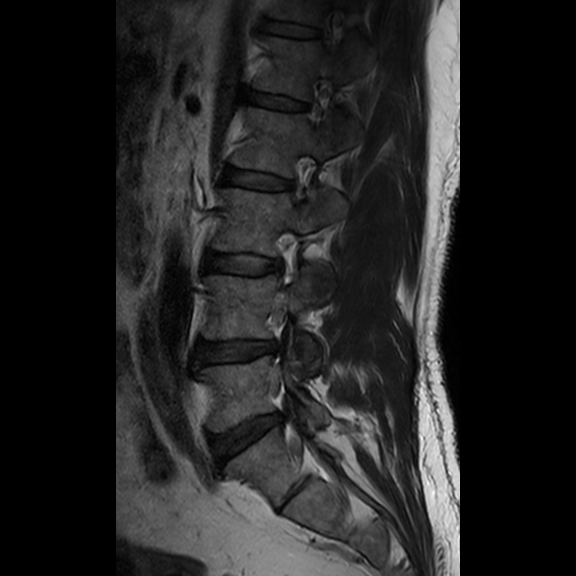RFS0: (262, 219, 308, 293), (278, 147, 325, 210)
